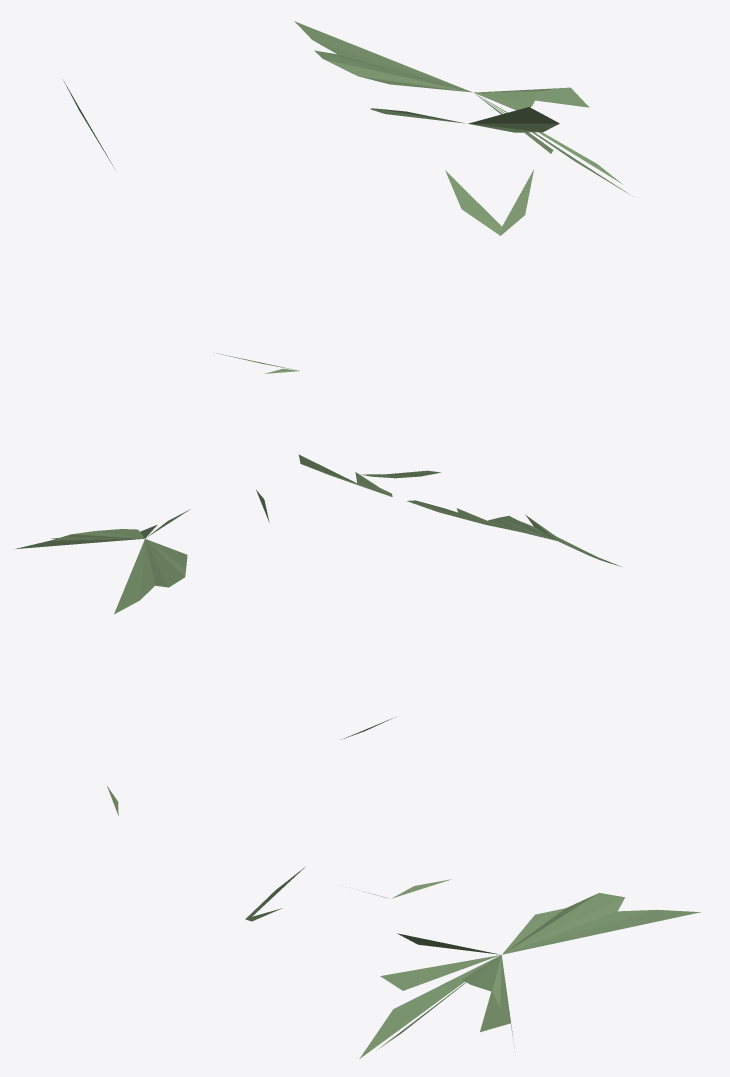
The model's file is c_1666_17815_parks.glb.
The picture shows the model from 3 angles, top to bottom: view 1: azimuth 30°, elevation 25°; view 2: azimuth 150°, elevation 25°; view 3: azimuth 270°, elevation 25°; orthographic projection. The views are drawn at different scales.
Visible parts, largest first — view 1: geometry_0; view 2: geometry_0; view 3: geometry_0.
Part boxes in pixels (x1=…): geometry_0: x1=63, y1=21, x2=632, y2=373; geometry_0: x1=14, y1=454, x2=621, y2=614; geometry_0: x1=107, y1=716, x2=700, y2=1058.
Size of the model in its own units: 347 by 129 by 364.
